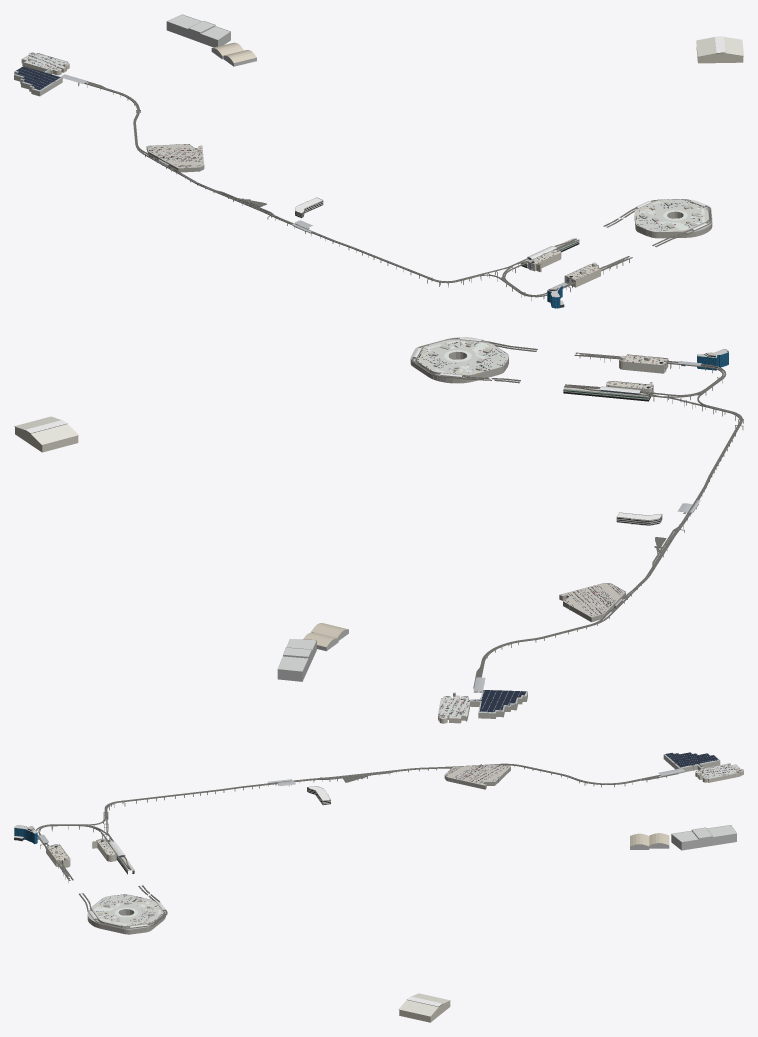
File: landside_lod2.glb
3 views of the same model, one above another, from view 1: azimuth 30°, elevation 25°; view 2: azimuth 150°, elevation 25°; view 3: azimuth 270°, elevation 25° (orthographic). The views are drawn at different scales.
Visible parts, largest first — view 1: L2_central_garage, L2_united_moc, L2_rental_car_center, L2_superbay, L2_ltp_garage_2, L2_ltp_garage_1, L2_garage_a, L2_airtrain_-5_0, L2_rental_car_center_cars0; view 2: L2_central_garage, L2_united_moc, L2_rental_car_center, L2_superbay, L2_ltp_garage_2, L2_ltp_garage_1, L2_garage_a; view 3: L2_central_garage, L2_united_moc, L2_rental_car_center, L2_superbay, L2_ltp_garage_2, L2_ltp_garage_1, L2_airtrain_-5_0.
Part boxes in pixels (x1=…): L2_central_garage: x1=634, y1=199, x2=712, y2=238; L2_united_moc: x1=166, y1=14, x2=256, y2=66; L2_rental_car_center: x1=146, y1=144, x2=204, y2=172; L2_superbay: x1=696, y1=36, x2=743, y2=63; L2_ltp_garage_2: x1=14, y1=66, x2=62, y2=96; L2_ltp_garage_1: x1=21, y1=52, x2=69, y2=75; L2_garage_a: x1=564, y1=262, x2=600, y2=287; L2_airtrain_-5_0: x1=368, y1=254, x2=507, y2=287; L2_rental_car_center_cars0: x1=148, y1=144, x2=202, y2=167; L2_central_garage: x1=410, y1=337, x2=508, y2=383; L2_united_moc: x1=277, y1=623, x2=348, y2=681; L2_rental_car_center: x1=559, y1=583, x2=625, y2=622; L2_superbay: x1=14, y1=416, x2=78, y2=452; L2_ltp_garage_2: x1=470, y1=690, x2=527, y2=718; L2_ltp_garage_1: x1=438, y1=692, x2=470, y2=723; L2_garage_a: x1=619, y1=354, x2=668, y2=373; L2_central_garage: x1=87, y1=894, x2=165, y2=934; L2_united_moc: x1=630, y1=825, x2=736, y2=850; L2_rental_car_center: x1=444, y1=764, x2=510, y2=789; L2_superbay: x1=398, y1=993, x2=450, y2=1022; L2_ltp_garage_2: x1=663, y1=752, x2=720, y2=771; L2_ltp_garage_1: x1=695, y1=763, x2=743, y2=782; L2_airtrain_-5_0: x1=88, y1=792, x2=198, y2=834.
Size of the model in its own units: 2397 by 48.67 by 2778.
49 materials, 11 textured.
